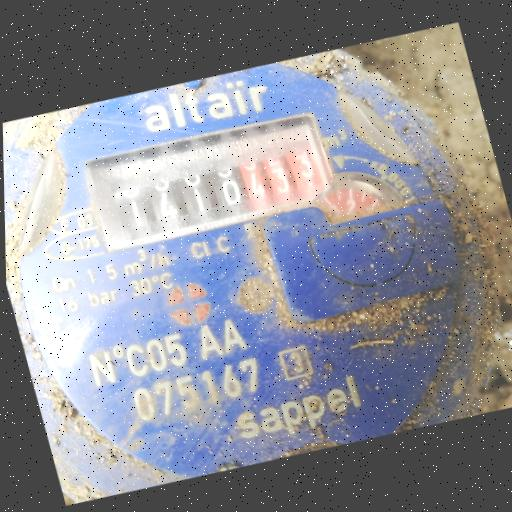0: (210, 162, 245, 210)
1: (178, 170, 214, 219), (120, 186, 153, 231)
3: (287, 143, 323, 193), (262, 152, 295, 199)
4: (148, 176, 183, 223), (239, 158, 271, 204)
border_water_meter_number: (99, 121, 337, 255)
